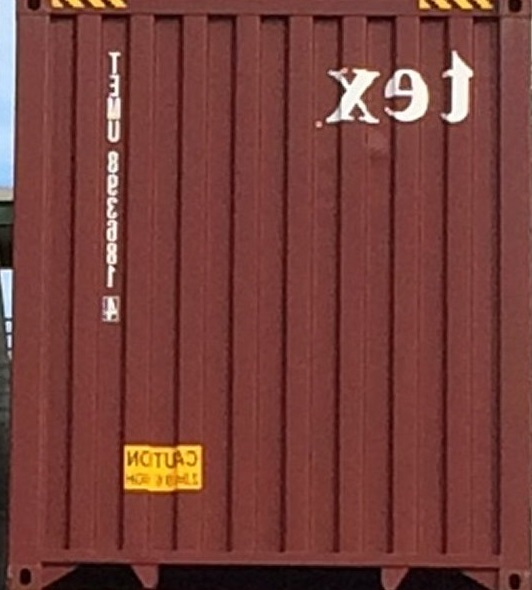container_no_door: (14, 1, 528, 585)
